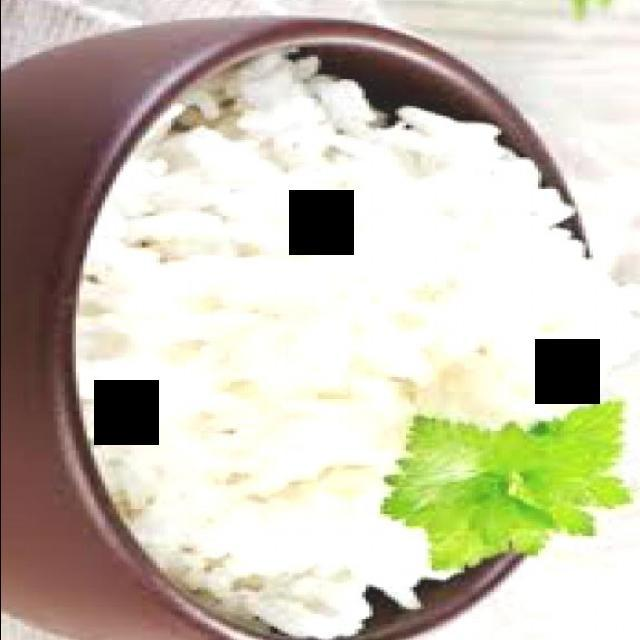rice: (74, 50, 640, 640)
